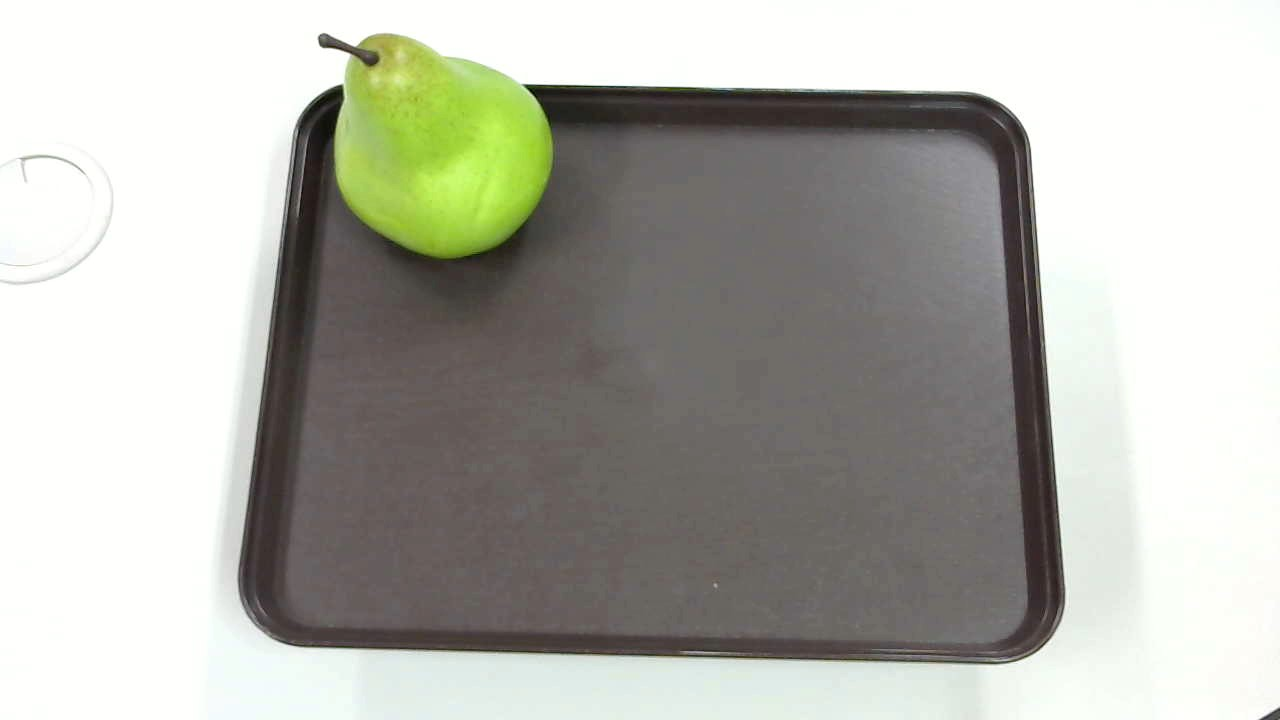green pear: (300, 10, 561, 278)
